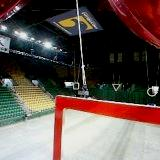Orange_Square_GShape: (52, 94, 160, 160)
Yellow_Circle_GShape: (147, 88, 157, 96)
Yellow_Square_GShape: (73, 82, 80, 90)
Yellow_Triangle_Gshape: (112, 83, 122, 92)
